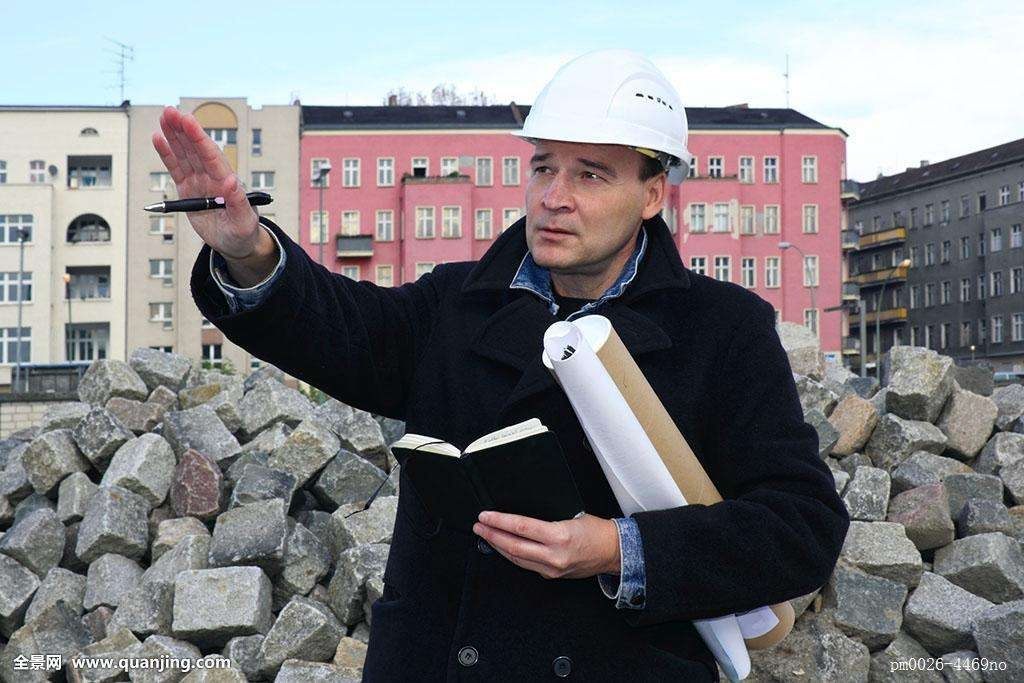white: (514, 36, 692, 282)
